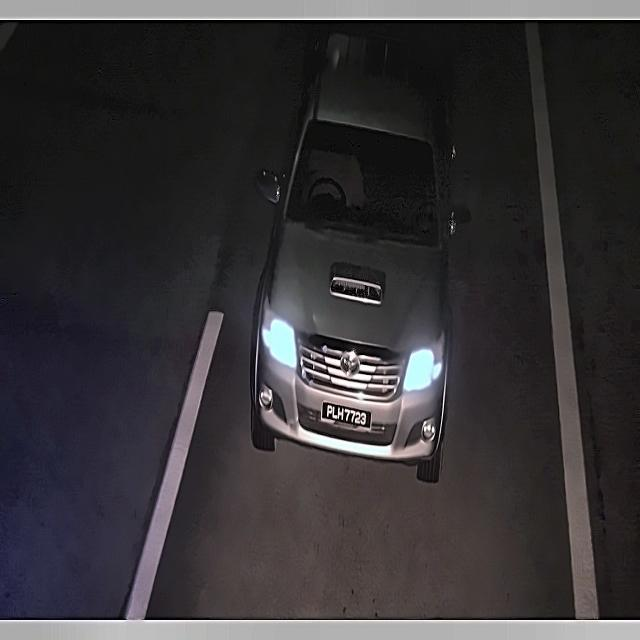car: (322, 398, 371, 432)
